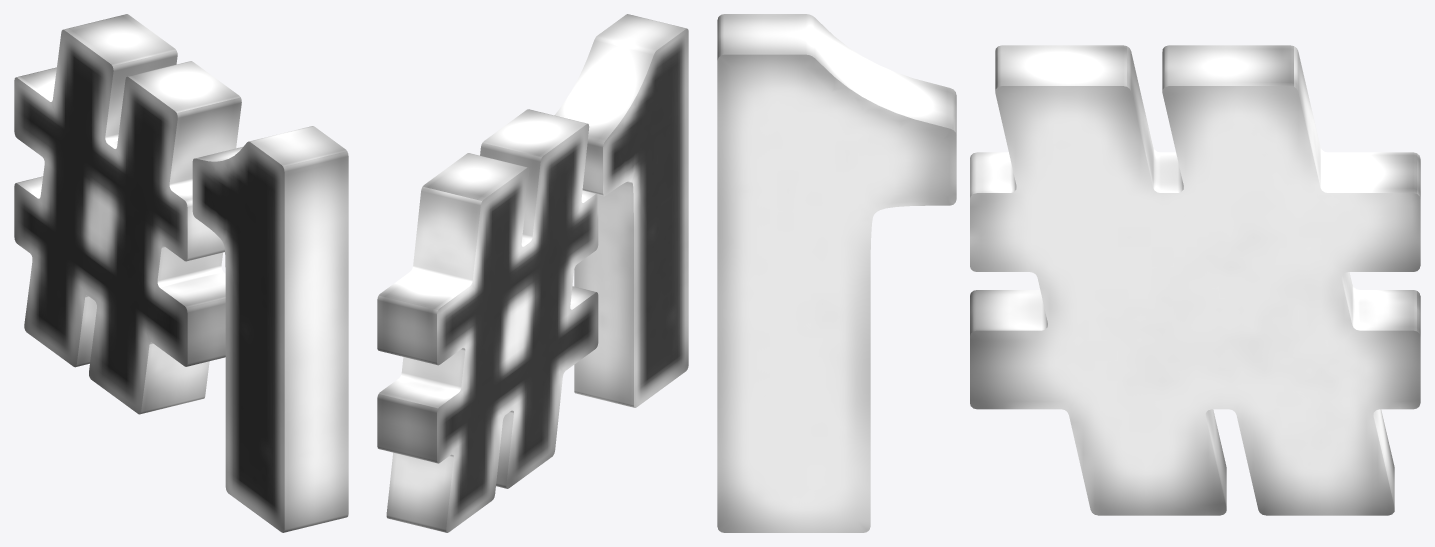
Rendered from SM_Number1_01.fbx.
The picture shows the model from 3 angles, left to right: view 1: azimuth 30°, elevation 25°; view 2: azimuth 150°, elevation 25°; view 3: azimuth 270°, elevation 25°; orthographic projection. The views are drawn at different scales.
Visible parts, largest first — view 1: SM_Number1_01_LOD0; view 2: SM_Number1_01_LOD0; view 3: SM_Number1_01_LOD0.
Part boxes in pixels (bbox=[...]): SM_Number1_01_LOD0: bbox=[14, 14, 348, 532]; SM_Number1_01_LOD0: bbox=[377, 14, 688, 532]; SM_Number1_01_LOD0: bbox=[717, 14, 1420, 532].
Size of the model in its own units: 7.43 by 54.23 by 40.71.
1 material, 1 textured.
